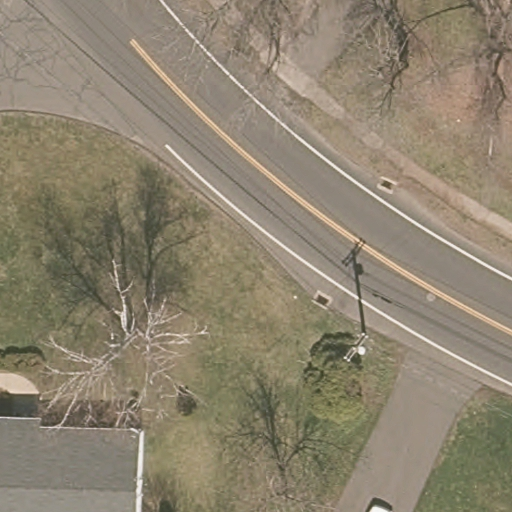DT: (343, 331, 370, 364)
